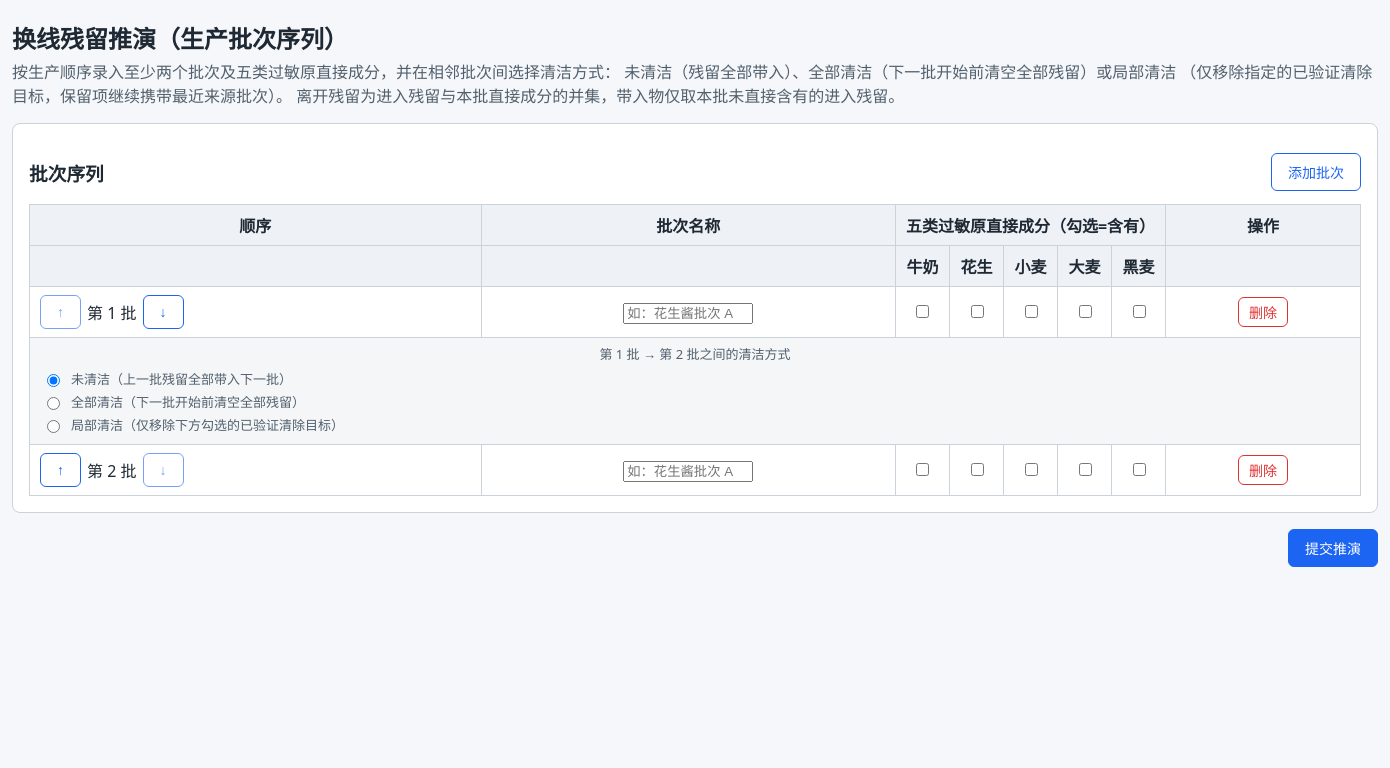
Test: 换线残留推演：提交与逐批结果 › 局部清洁下被保留目标与本批直接成分求并集，离开残留保留各来源
Type "A批" into the field with test id "co-batch-0-name" at (688, 313), box [623,303,753,324]
Click the checkbox with test id "co-batch-0-contains-peanut" at (977, 312), box [970,305,984,318]
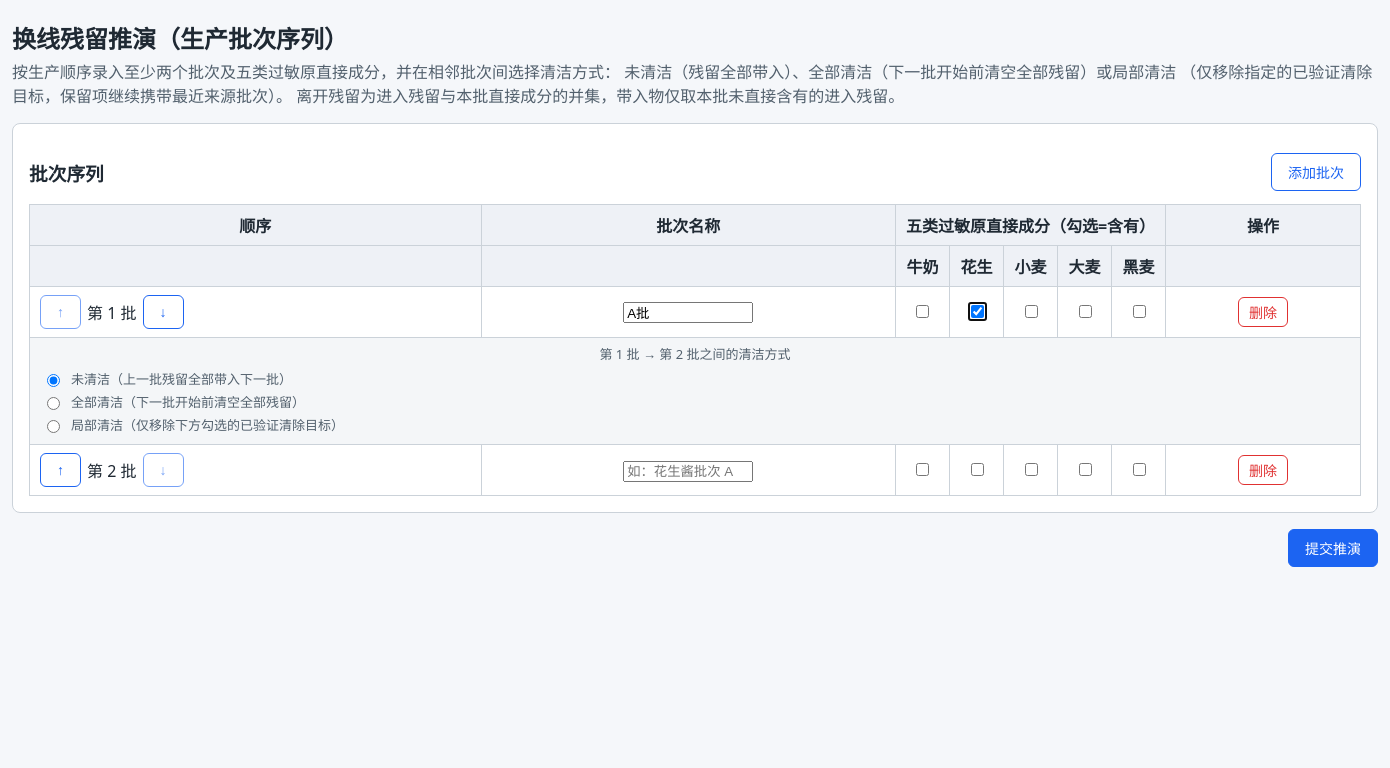
Click the checkbox with test id "co-batch-0-contains-wheat" at (1031, 312), box [1024,305,1038,318]
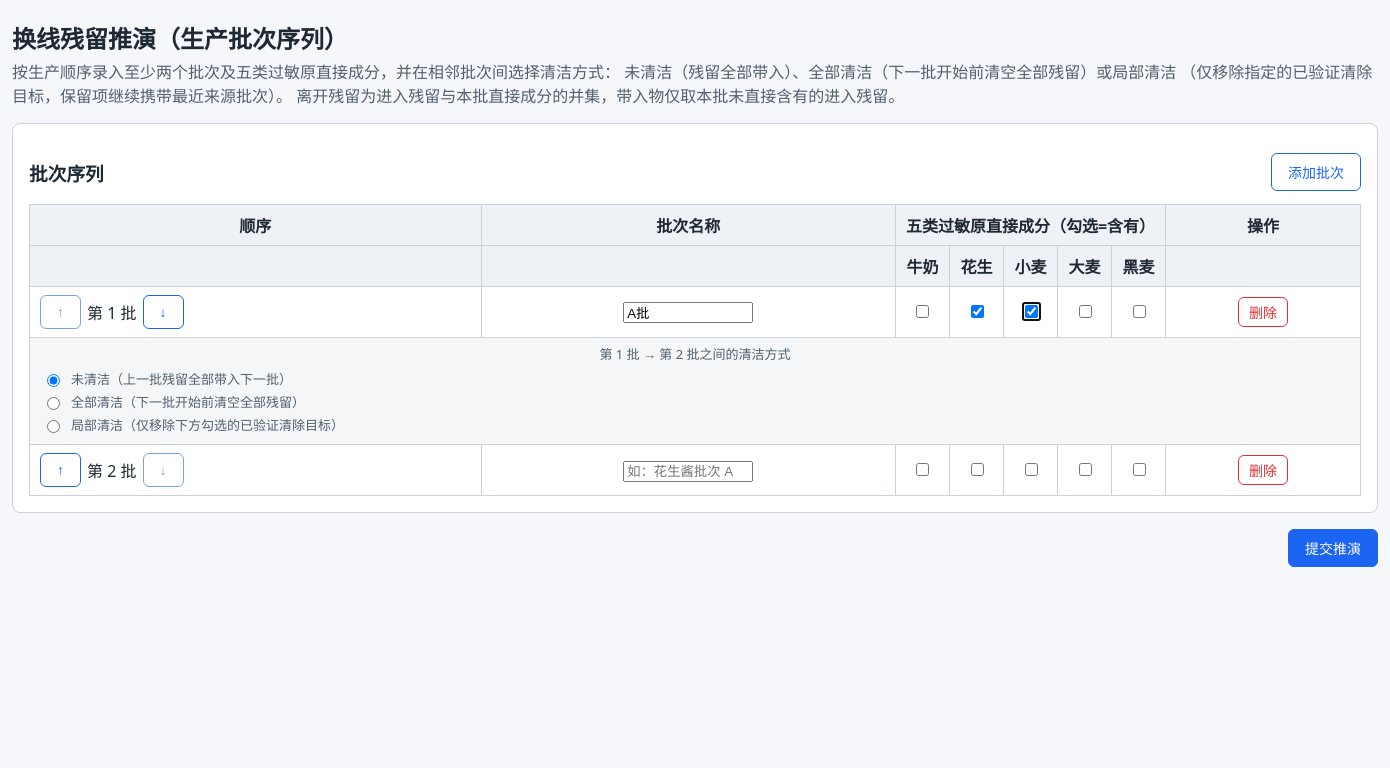
Type "B批" into the field with test id "co-batch-1-name" at (688, 471), box [623,461,753,482]
Click the checkbox with test id "co-batch-1-contains-milk" at (923, 470), box [916,463,930,476]
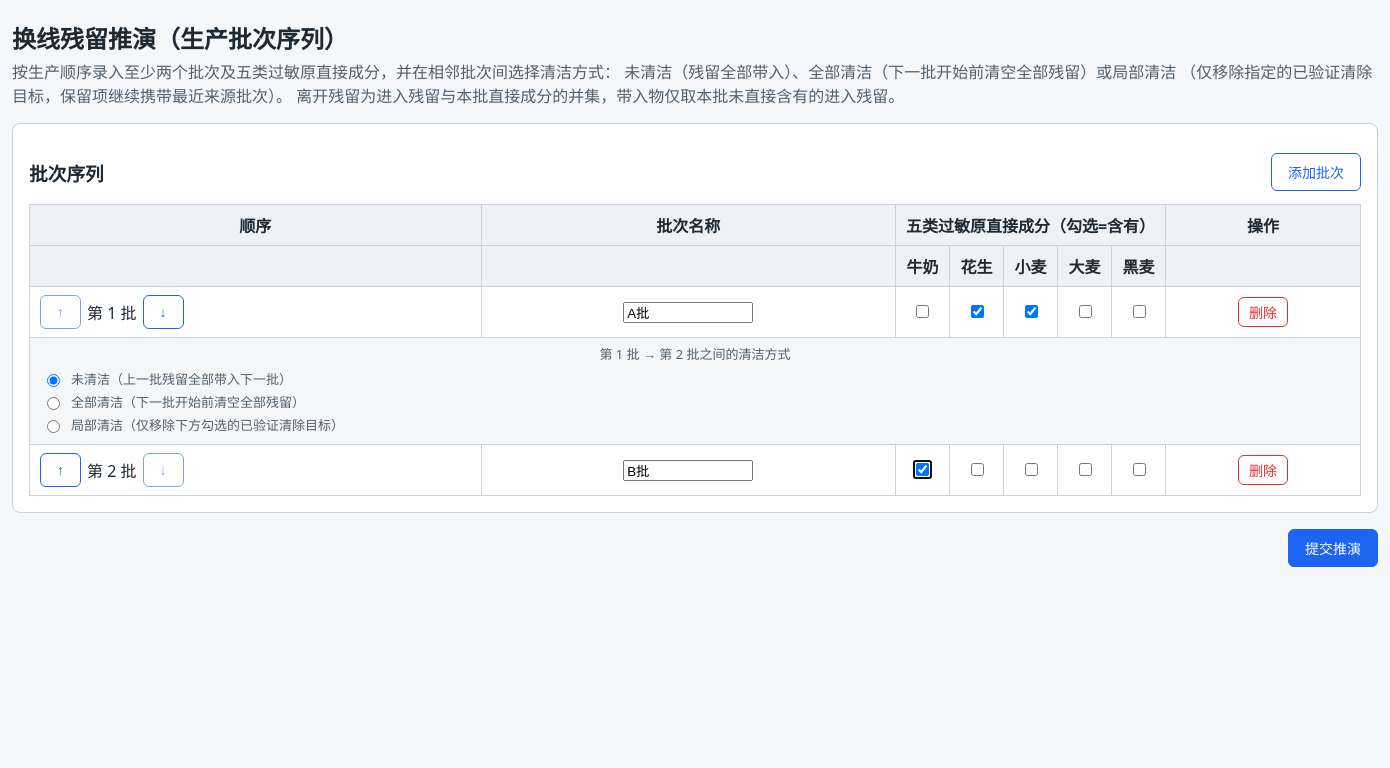
Click the radio button with test id "co-boundary-0-mode-partial" at (54, 426), box [47,420,60,433]
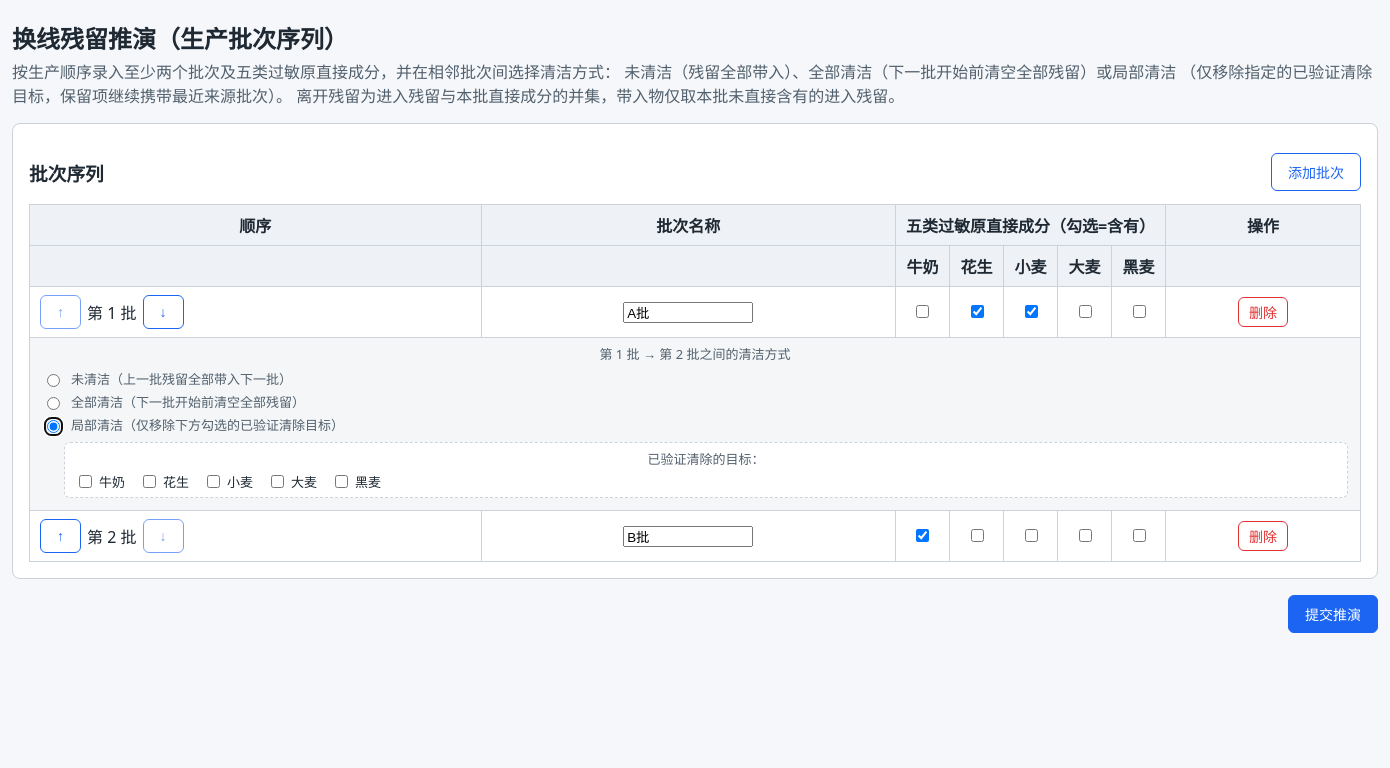
Click the checkbox with test id "co-boundary-0-target-peanut" at (150, 482), box [143,475,156,488]
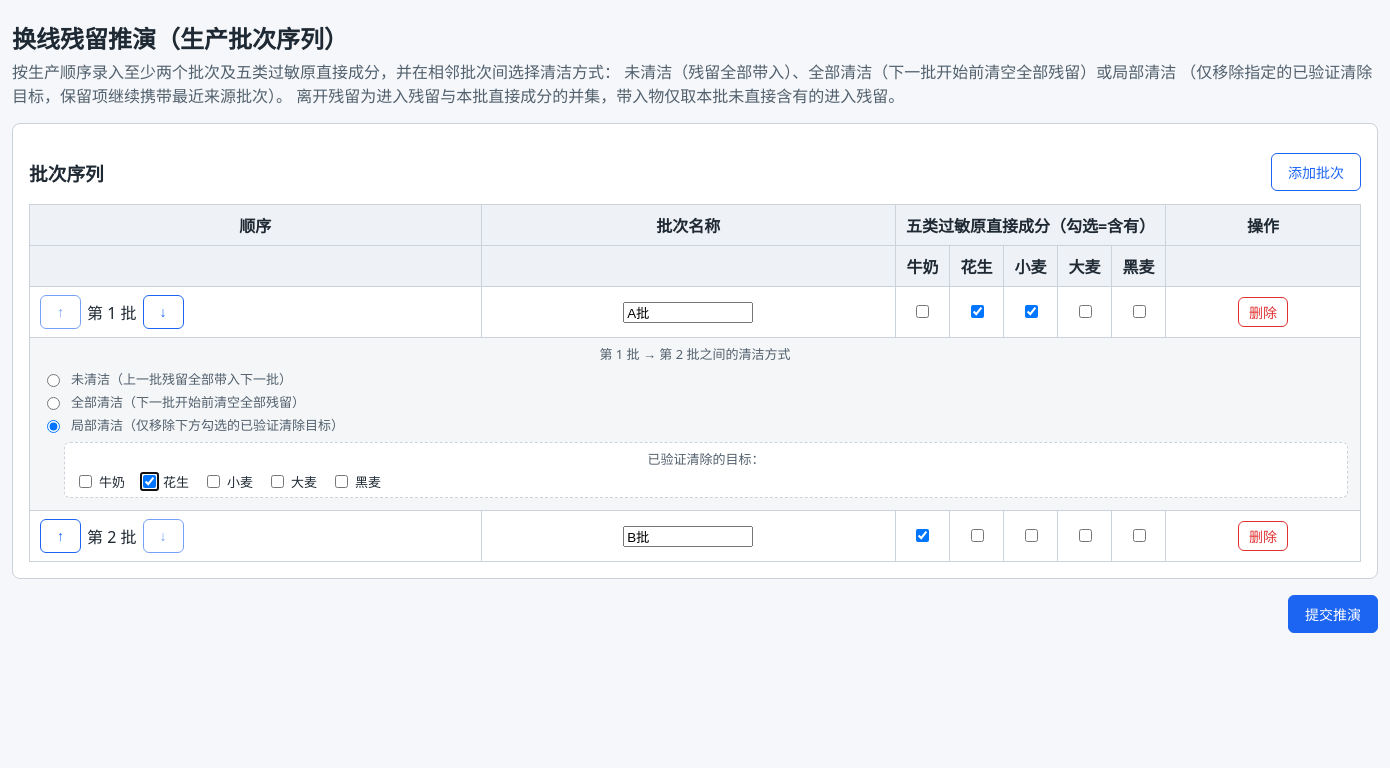
Click the button with test id "co-submit" at (1333, 614), box [1288,595,1378,633]
(page scrolled)
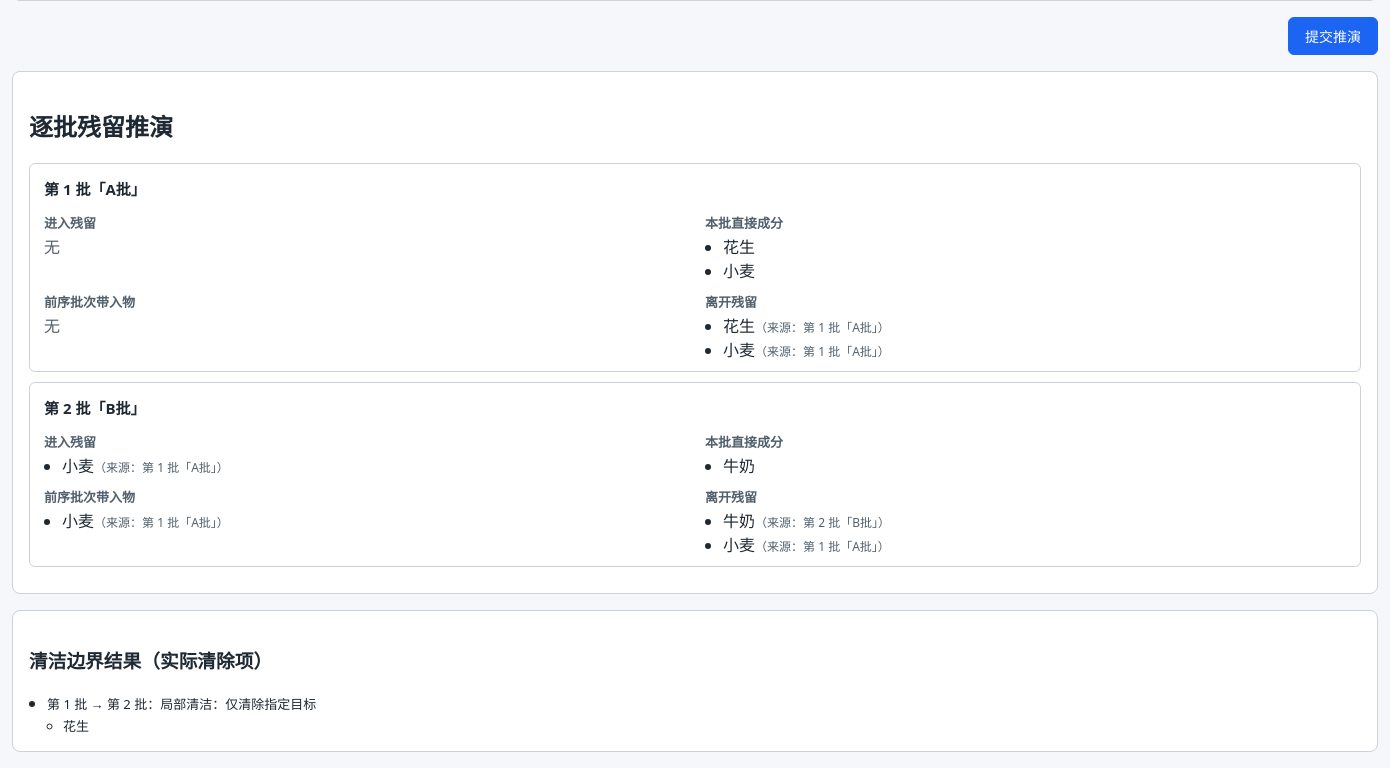
Check: the element with test id "co-result" is shown
Check: the list item with test id "co-batch-1-incoming-wheat" shows "A批", box [191,459,211,476]
Check: the list item with test id "co-batch-1-outgoing-wheat" shows "A批", box [852,538,872,555]
